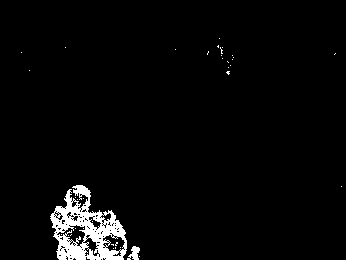person: (48, 182, 131, 260)
